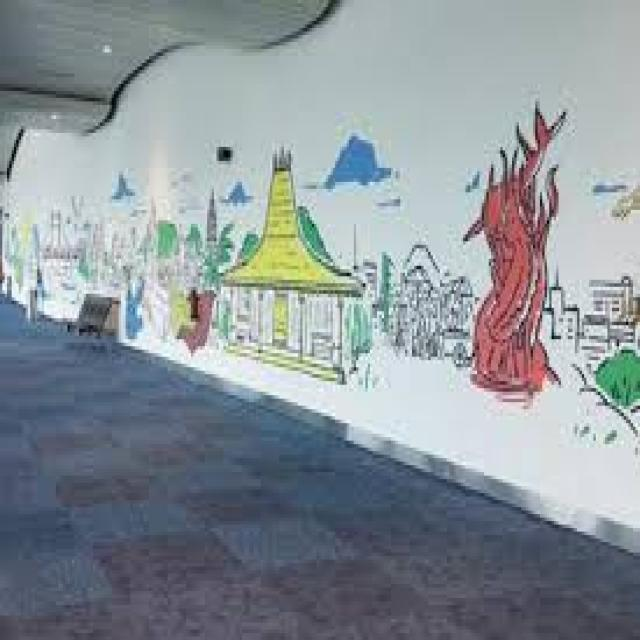-: (0, 132, 457, 387), (461, 100, 560, 415), (563, 177, 640, 448)
